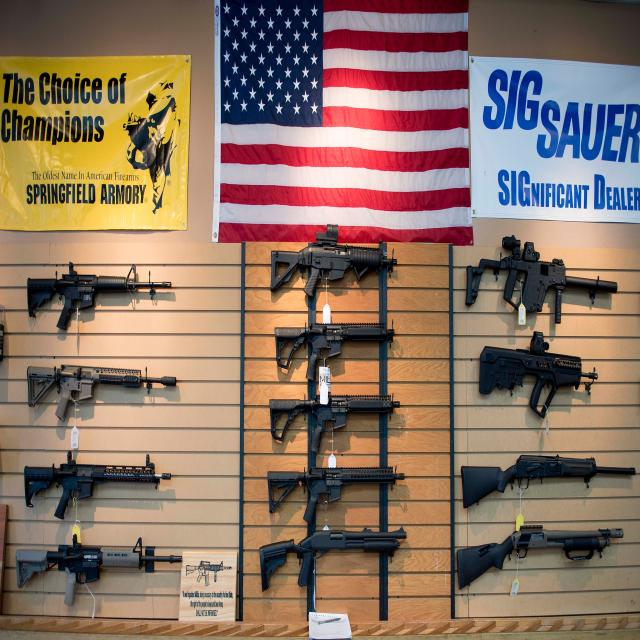Rifle: (15, 535, 183, 607), (479, 335, 598, 419), (24, 455, 172, 521), (270, 225, 397, 299), (27, 273, 173, 332), (27, 365, 177, 422), (267, 468, 404, 525), (269, 395, 400, 453), (275, 324, 394, 382), (186, 561, 231, 587)
SMG: (466, 235, 618, 325)
ShotGun: (457, 525, 611, 589), (259, 530, 407, 591)
